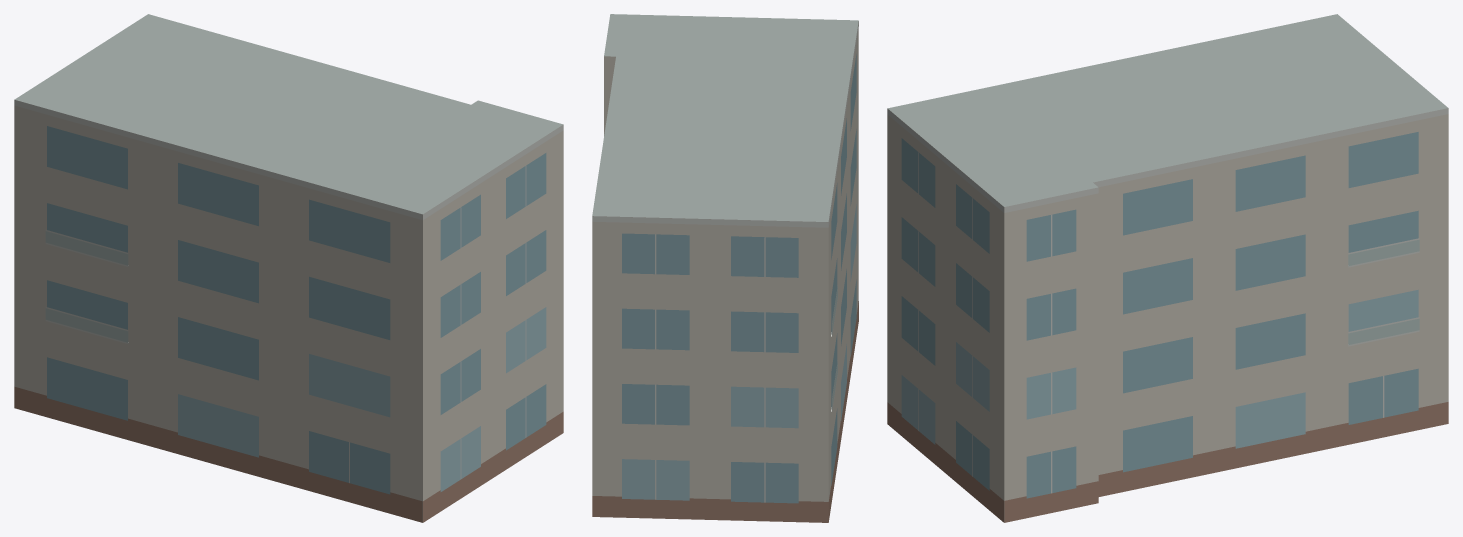
Rendered from survey-upis-32703248.glb.
3 views of the same model, side by side, from view 1: azimuth 30°, elevation 25°; view 2: azimuth 150°, elevation 25°; view 3: azimuth 270°, elevation 25° (orthographic). The views are drawn at different scales.
Visible parts, largest first — view 1: survey-upis-32703248.tmp; view 2: survey-upis-32703248.tmp; view 3: survey-upis-32703248.tmp.
Part boxes in pixels (x1,y1,x2,y2): survey-upis-32703248.tmp: [14, 14, 563, 522]; survey-upis-32703248.tmp: [592, 14, 858, 522]; survey-upis-32703248.tmp: [887, 14, 1448, 522].
Size of the model in its own units: 16.86 by 12.85 by 20.7.
